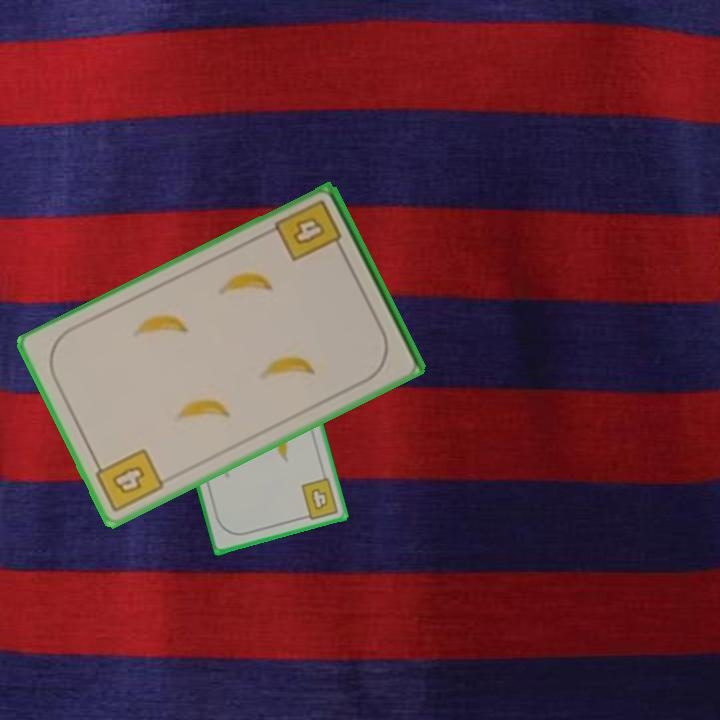4b: (89, 445, 167, 516), (271, 196, 347, 265), (298, 474, 342, 522)
